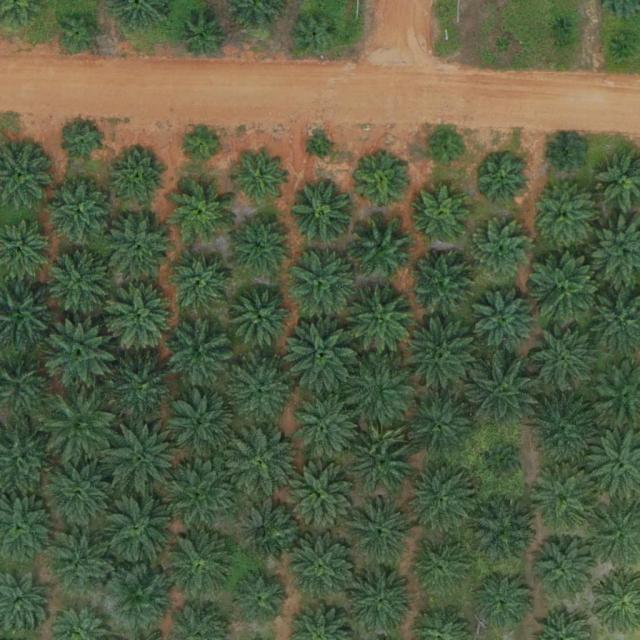Healthy: (43, 316, 121, 395), (41, 390, 119, 469), (102, 420, 180, 499), (282, 319, 360, 398), (340, 354, 418, 433), (400, 318, 478, 397), (466, 355, 544, 434), (529, 249, 607, 328), (526, 392, 604, 471), (99, 491, 177, 570), (41, 454, 119, 533), (103, 281, 181, 359), (221, 425, 299, 503), (163, 456, 241, 534), (163, 526, 241, 604), (346, 286, 417, 357), (470, 496, 541, 567), (349, 567, 420, 638), (287, 245, 357, 316), (409, 250, 479, 321), (404, 391, 474, 462), (471, 287, 541, 358), (407, 464, 477, 535), (532, 465, 602, 536), (406, 535, 476, 606), (347, 494, 417, 565), (289, 393, 359, 463), (346, 424, 416, 494), (528, 323, 598, 393), (169, 325, 232, 388), (229, 214, 292, 277), (230, 287, 293, 350), (289, 467, 352, 530), (234, 499, 297, 562), (109, 567, 172, 630), (52, 531, 115, 594), (49, 179, 111, 242), (49, 249, 111, 312), (108, 215, 170, 278), (113, 357, 175, 420), (172, 182, 234, 245), (169, 254, 231, 317), (172, 390, 234, 453), (229, 359, 291, 422), (469, 221, 531, 284), (534, 184, 596, 247), (529, 540, 592, 602), (472, 574, 534, 637), (292, 538, 354, 601), (292, 180, 354, 242), (351, 216, 413, 278), (233, 152, 288, 207), (416, 186, 471, 241), (478, 154, 533, 209), (233, 574, 288, 629), (115, 150, 169, 205), (357, 158, 411, 213), (180, 15, 227, 62)
Small: (294, 11, 341, 59), (57, 11, 104, 58), (547, 135, 587, 175), (182, 123, 221, 163), (484, 446, 524, 485), (66, 123, 105, 162), (429, 131, 468, 170), (614, 34, 638, 58), (311, 136, 334, 160), (496, 39, 512, 54), (554, 19, 570, 34)
